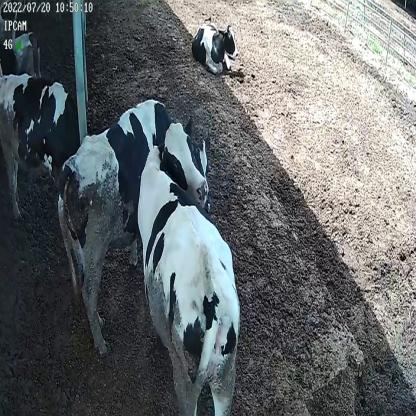cow: (57, 98, 218, 350), (136, 122, 240, 416), (2, 72, 78, 216), (188, 18, 240, 74)
